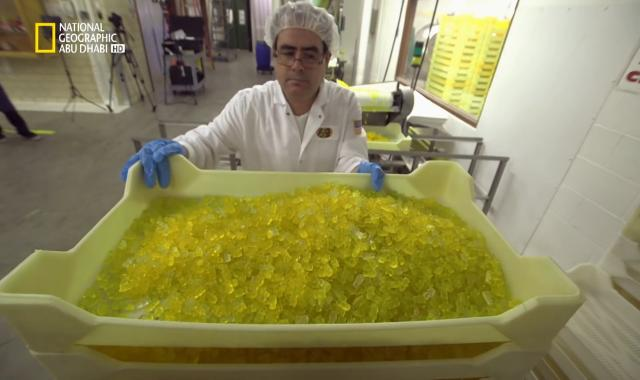hairnet: (266, 3, 341, 58)
